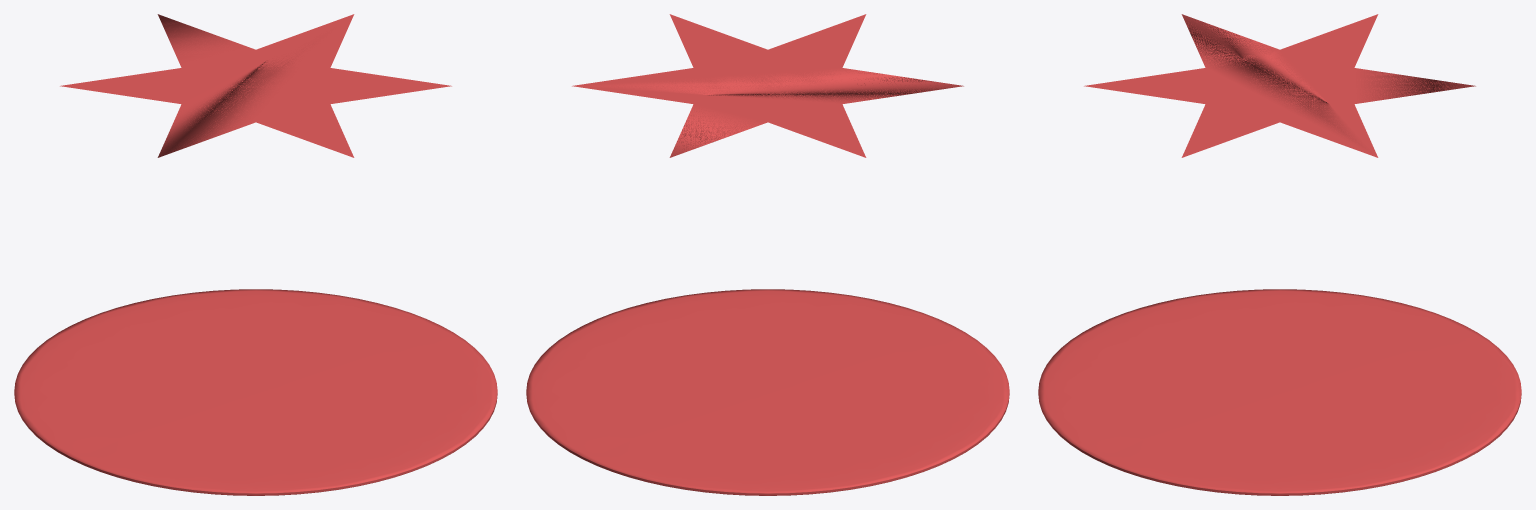
3 views of the same model, side by side, from view 1: azimuth 30°, elevation 25°; view 2: azimuth 150°, elevation 25°; view 3: azimuth 270°, elevation 25° (orthographic).
Visible parts, largest first — view 1: Cylinder002, Star002; view 2: Cylinder002, Star002; view 3: Cylinder002, Star002.
Boxes of the visible parts, left/top/right/bottom form: Cylinder002: left=14, top=289, right=497, bottom=495; Star002: left=60, top=14, right=451, bottom=157; Cylinder002: left=526, top=289, right=1009, bottom=495; Star002: left=572, top=14, right=963, bottom=157; Cylinder002: left=1038, top=289, right=1521, bottom=495; Star002: left=1084, top=14, right=1475, bottom=157.
Size of the model in its own units: 8.58 by 6.04 by 8.58.
